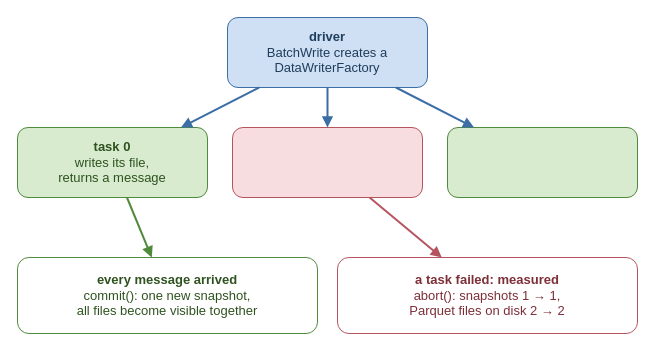
Some shapes in this 655 by 351 pixel diagram are drawn without their labels. Here are the shapes that lost their labels. From the top down, the centre of each, then its label:
At (x=327, y=162): "task 1 fails: raise_error".
At (x=542, y=162): "task 2 writes its file, returns a message".
